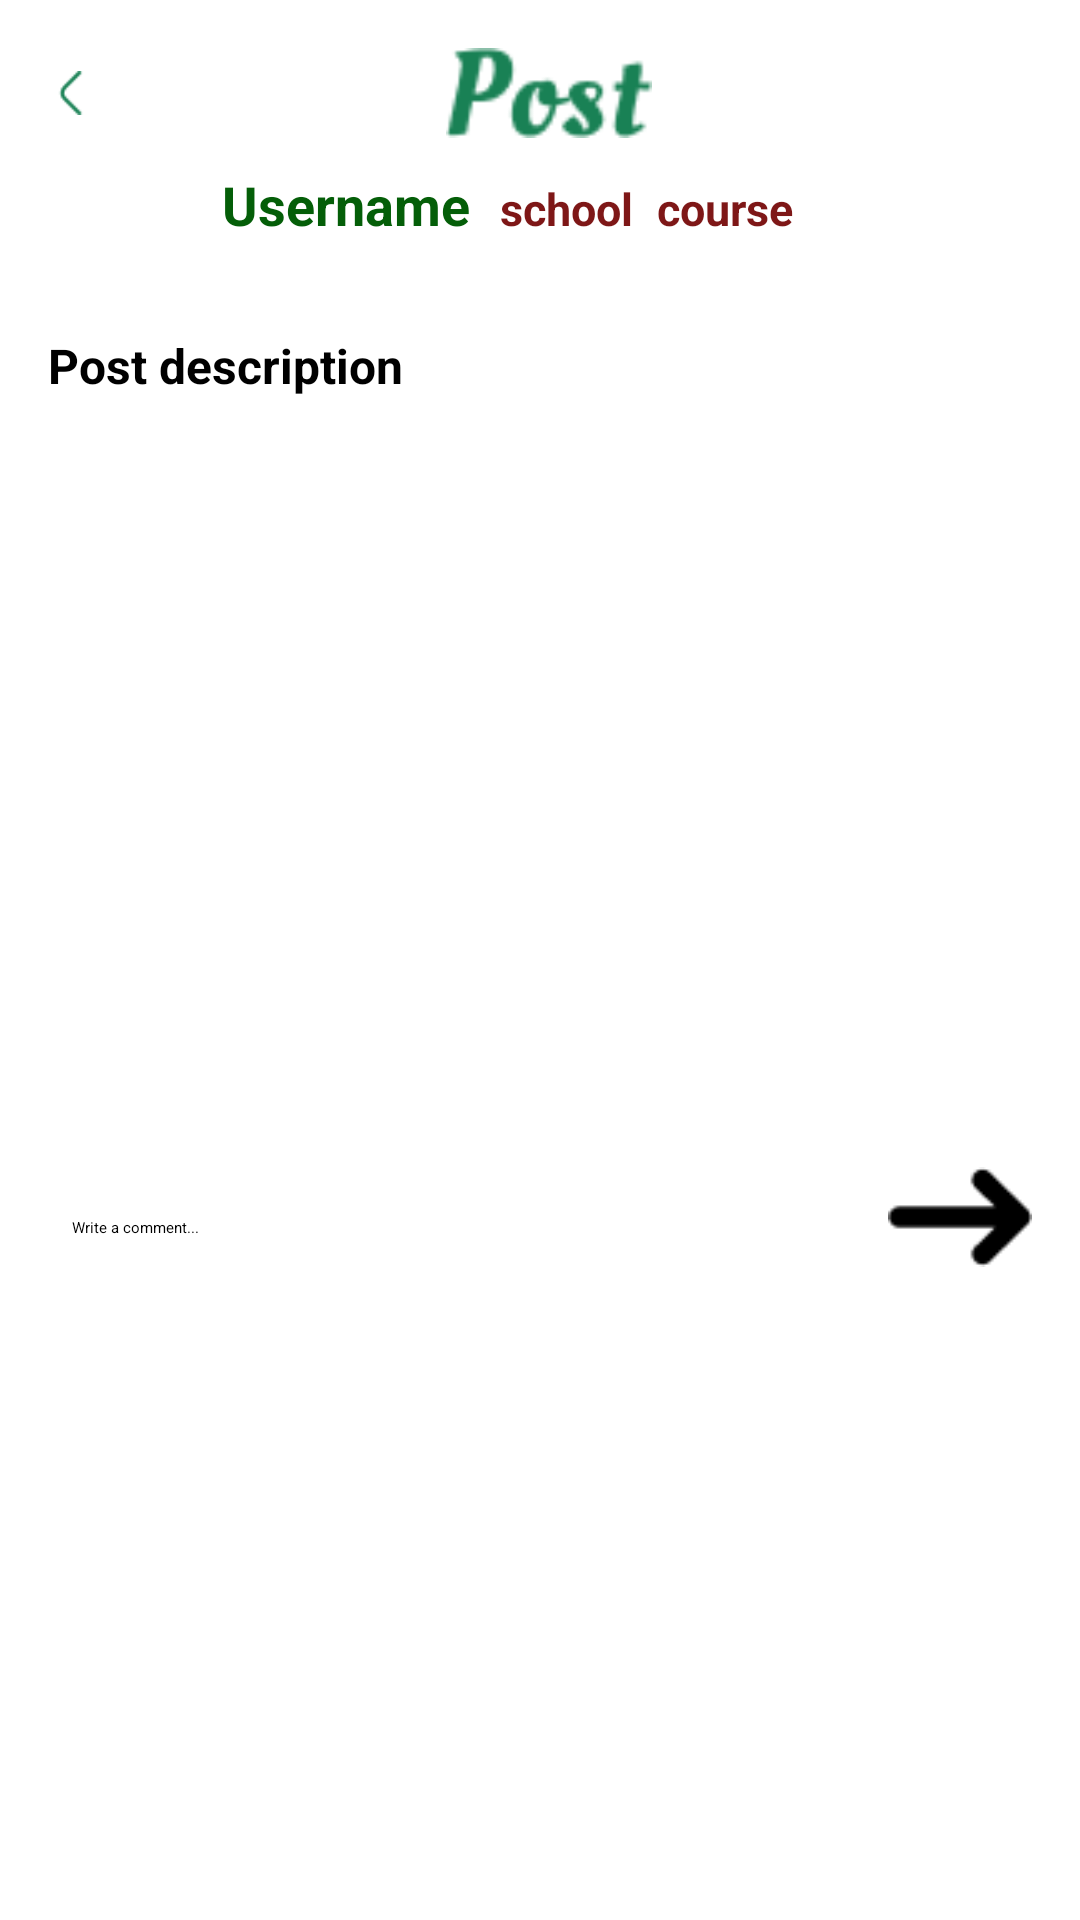

Where icons sit on this 1080x1920 app screen, as (x1, y1, x2, y2):
left arrow: (60, 71, 82, 115)
sendicon: (888, 1169, 1032, 1267)
